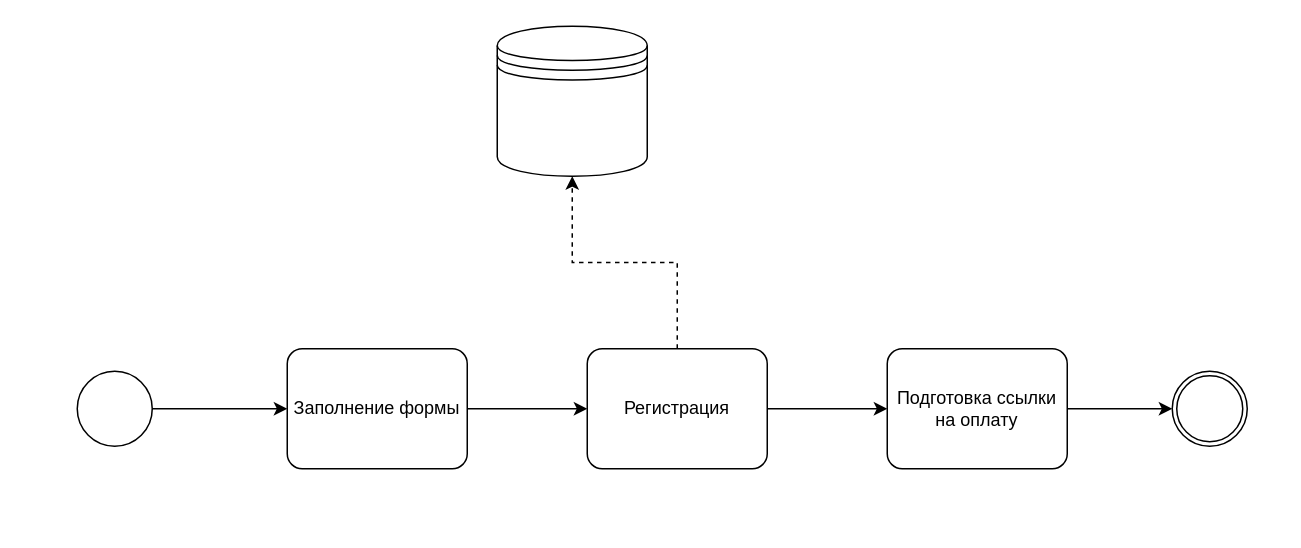
The diagram is 1301 pixels wide and 548 high, and some of its shapes have lost their labels. The centre of each missing label's shape, as x and y in pixels:
"Нажал кнопку регистрации бизнеса" belongs at point 114,408.
"Пользователь получил ссылку" belongs at point 1209,408.
